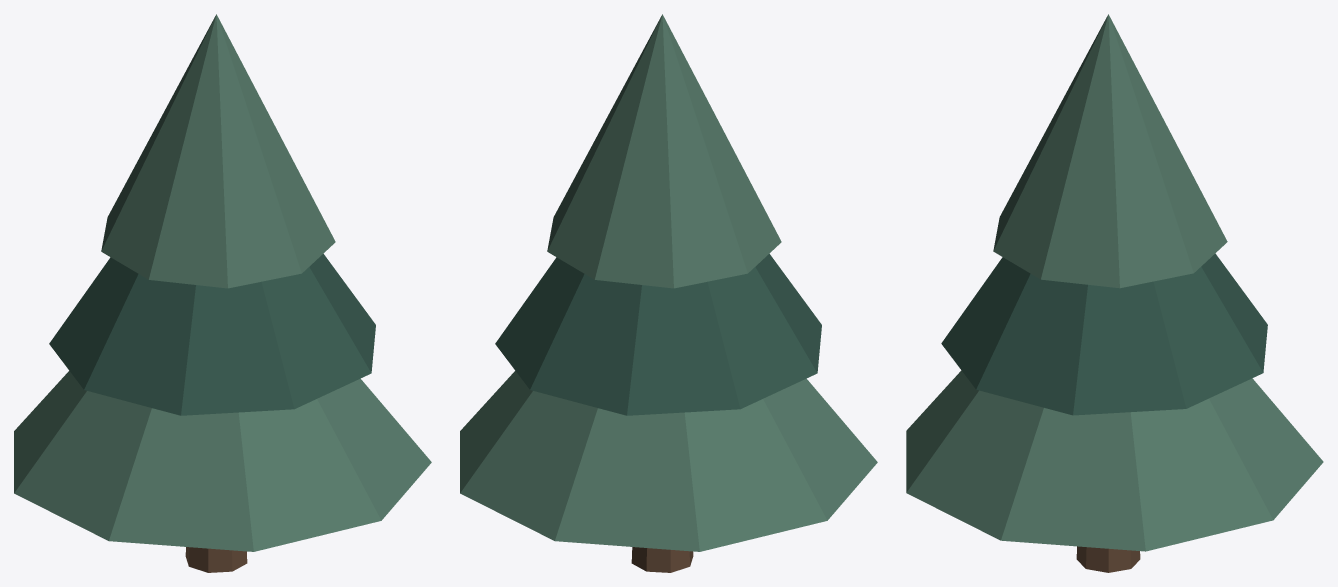
The model's file is tree-pine.glb.
3 views of the same model, side by side, from view 1: azimuth 30°, elevation 25°; view 2: azimuth 150°, elevation 25°; view 3: azimuth 270°, elevation 25° (orthographic).
Parts seen in each view (by area): view 1: tree-pine-runtime; view 2: tree-pine-runtime; view 3: tree-pine-runtime.
Boxes of the visible parts, x1,y1,x2,y2 form: tree-pine-runtime: (14, 14, 431, 572); tree-pine-runtime: (460, 14, 877, 572); tree-pine-runtime: (906, 14, 1323, 572).
Bounding box in the file's own units: 2.66 × 3.77 × 2.62.
